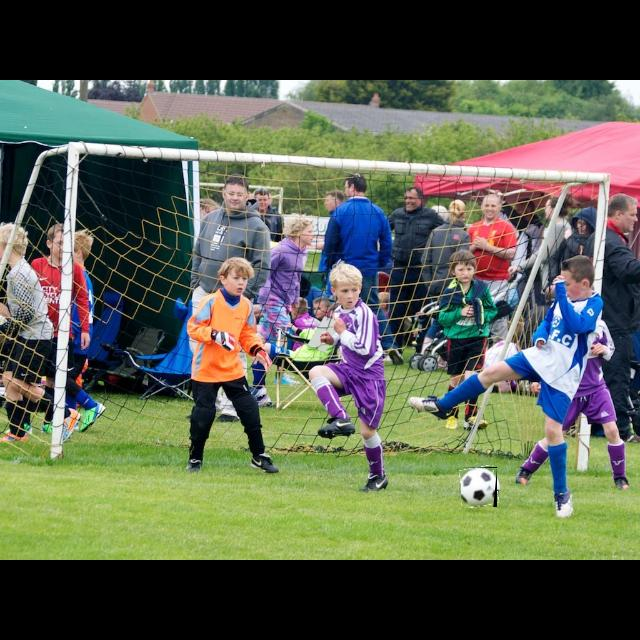Football: (461, 467, 497, 507)
